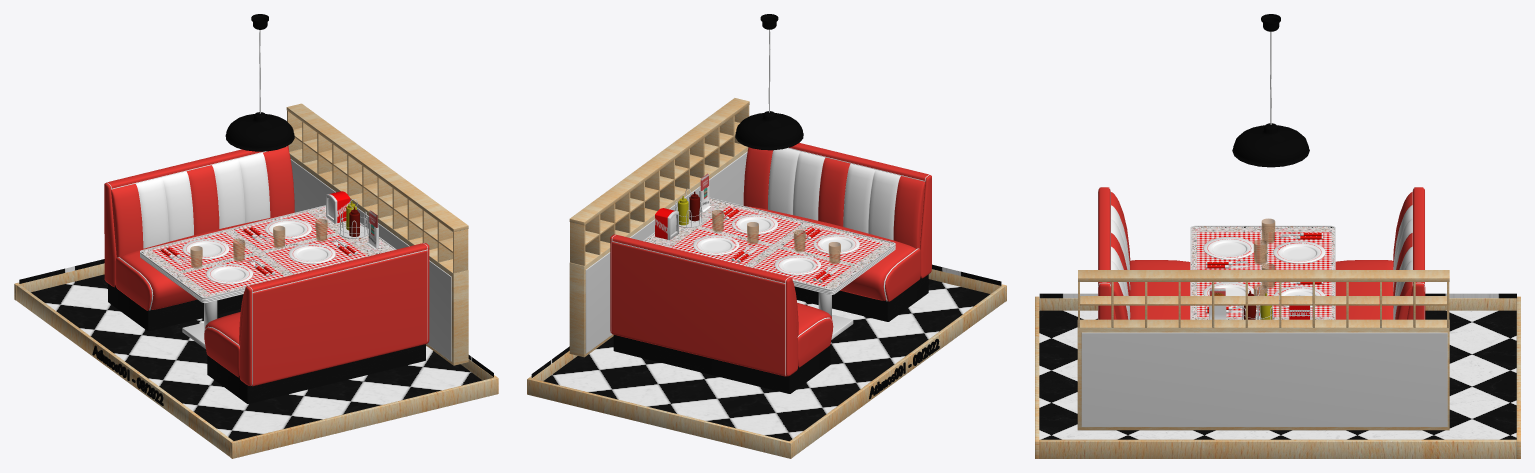
File: ziggys_diner_an_american_diner (1).glb
3 views of the same model, side by side, from view 1: azimuth 30°, elevation 25°; view 2: azimuth 150°, elevation 25°; view 3: azimuth 270°, elevation 25° (orthographic). The views are drawn at different scales.
Parts seen in each view (by area): view 1: mobi_table_complet_4p_1, immo_sol_0, immo_separation_bois_2, socle_bois_4, deco_luminaire_lustre_3, socle_text.001_6; view 2: mobi_table_complet_4p_1, immo_sol_0, immo_separation_bois_2, socle_bois_4, deco_luminaire_lustre_3, socle_text.001_6; view 3: immo_separation_bois_2, mobi_table_complet_4p_1, immo_sol_0, socle_bois_4, deco_luminaire_lustre_3.
Boxes of the visible parts, x1=… form: mobi_table_complet_4p_1: x1=104, y1=145, x2=429, y2=403; immo_sol_0: x1=19, y1=259, x2=493, y2=440; immo_separation_bois_2: x1=286, y1=103, x2=468, y2=365; socle_bois_4: x1=14, y1=263, x2=498, y2=458; deco_luminaire_lustre_3: x1=225, y1=14, x2=294, y2=151; socle_text.001_6: x1=92, y1=345, x2=163, y2=405; mobi_table_complet_4p_1: x1=610, y1=143, x2=931, y2=393; immo_sol_0: x1=531, y1=264, x2=1001, y2=441; immo_separation_bois_2: x1=569, y1=98, x2=749, y2=357; socle_bois_4: x1=527, y1=269, x2=1006, y2=458; deco_luminaire_lustre_3: x1=735, y1=14, x2=803, y2=150; socle_text.001_6: x1=869, y1=339, x2=939, y2=399; immo_separation_bois_2: x1=1077, y1=270, x2=1449, y2=430; mobi_table_complet_4p_1: x1=1098, y1=187, x2=1425, y2=319; immo_sol_0: x1=1039, y1=293, x2=1516, y2=439; socle_bois_4: x1=1035, y1=296, x2=1520, y2=458; deco_luminaire_lustre_3: x1=1232, y1=14, x2=1309, y2=167.
Size of the model in its own units: 1.91 by 2.26 by 2.7.
Materials: 25 (10 with a texture image).
